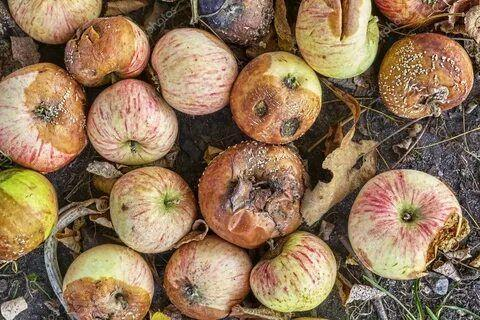Apple: (347, 172, 461, 280), (198, 146, 308, 247), (2, 62, 89, 170), (232, 53, 321, 144), (379, 35, 473, 119), (61, 247, 154, 320), (165, 238, 249, 316), (63, 14, 149, 81)
